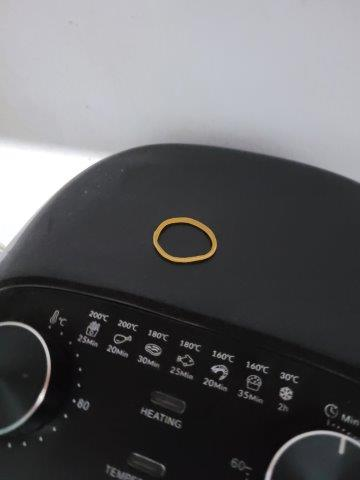karet: (151, 215, 219, 266)
